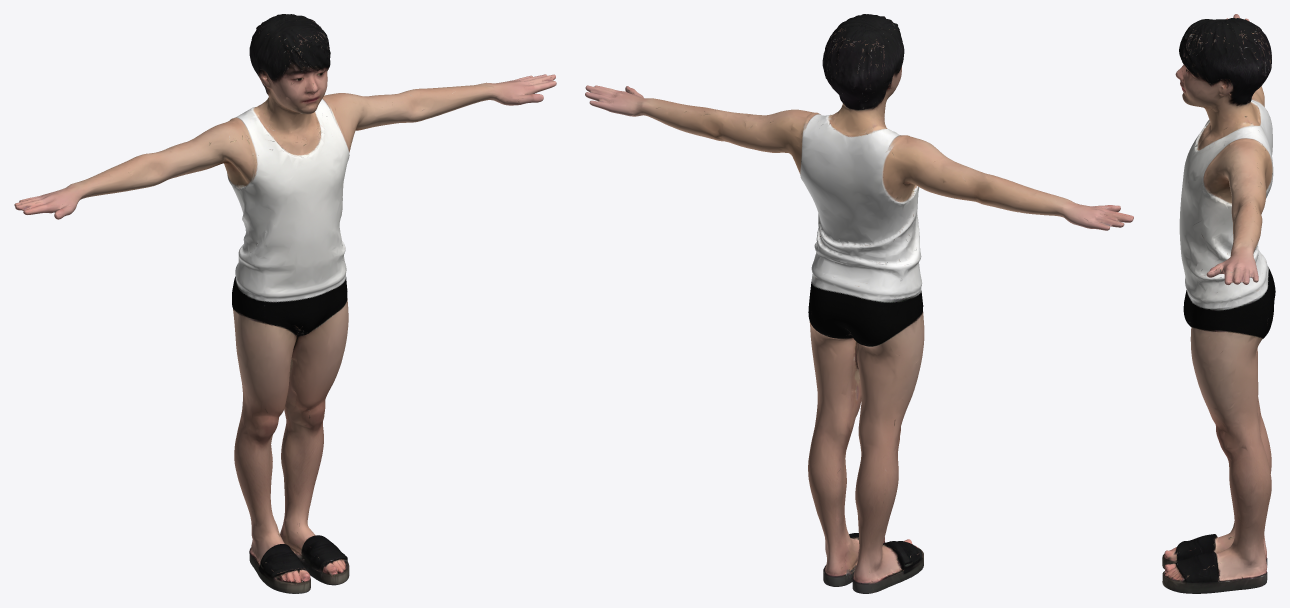
Rendered from koba.glb.
3 renders of one model, left to right at view 1: azimuth 30°, elevation 25°; view 2: azimuth 150°, elevation 25°; view 3: azimuth 270°, elevation 25°, orthographic.
Parts seen in each view (by area): view 1: Body_Upper, Body_Lower, Mesh_0, Body_Feet; view 2: Body_Upper, Body_Lower, Mesh_0, Body_Feet; view 3: Body_Upper, Body_Lower, Mesh_0, Body_Feet.
Part boxes in pixels (left/top/right/bottom): Body_Upper: left=35, top=82, right=497, bottom=298; Body_Lower: left=232, top=268, right=348, bottom=537; Mesh_0: left=14, top=14, right=556, bottom=587; Body_Feet: left=249, top=523, right=349, bottom=593; Body_Upper: left=640, top=98, right=1075, bottom=298; Body_Lower: left=808, top=262, right=924, bottom=572; Mesh_0: left=585, top=14, right=1133, bottom=593; Body_Feet: left=823, top=533, right=923, bottom=593; Body_Upper: left=1179, top=86, right=1273, bottom=309; Body_Lower: left=1183, top=262, right=1275, bottom=559; Mesh_0: left=1175, top=14, right=1271, bottom=593; Body_Feet: left=1162, top=529, right=1267, bottom=593.
Bounding box in the file's own units: 1.91 × 1.85 × 0.3418.
1 material, 1 textured.
